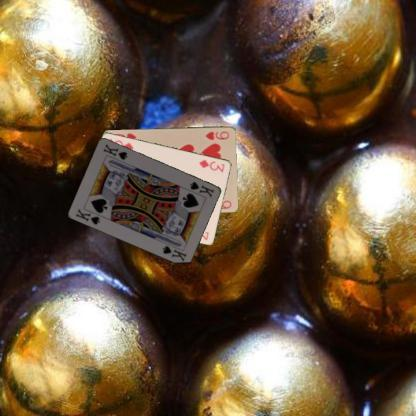3d: (196, 157, 226, 173)
9h: (202, 128, 230, 140)
Ks: (187, 179, 216, 199), (73, 206, 102, 226)
